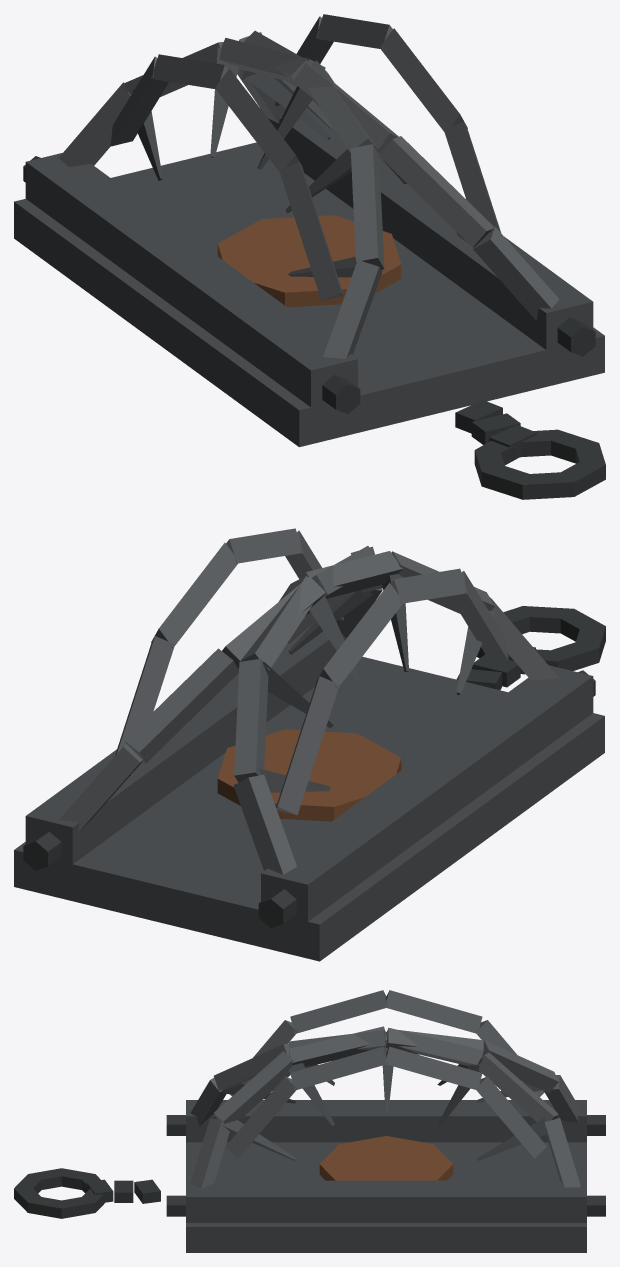
File: trap_bear_closed.glb
3 renders of one model, top to bottom at view 1: azimuth 30°, elevation 25°; view 2: azimuth 150°, elevation 25°; view 3: azimuth 270°, elevation 25°, orthographic. The views are drawn at different scales.
Visible parts, largest first — view 1: Base, JawL, JawR, Pan; view 2: Base, JawL, JawR, Pan; view 3: Base, JawR, JawL, Pan.
Boxes of the visible parts, x1,y1,x2,y2 form: Base: [14, 14, 605, 499]; JawL: [59, 37, 384, 358]; JawR: [237, 30, 559, 320]; Pan: [217, 215, 401, 307]; Base: [14, 528, 605, 961]; JawL: [233, 551, 558, 874]; JawR: [59, 546, 382, 831]; Pan: [217, 729, 401, 821]; Base: [14, 990, 605, 1252]; JawR: [190, 1026, 580, 1188]; JawL: [190, 1028, 580, 1126]; Pan: [319, 1136, 453, 1180].
Bounding box in the file's own units: 0.26 × 0.2105 × 0.62.
